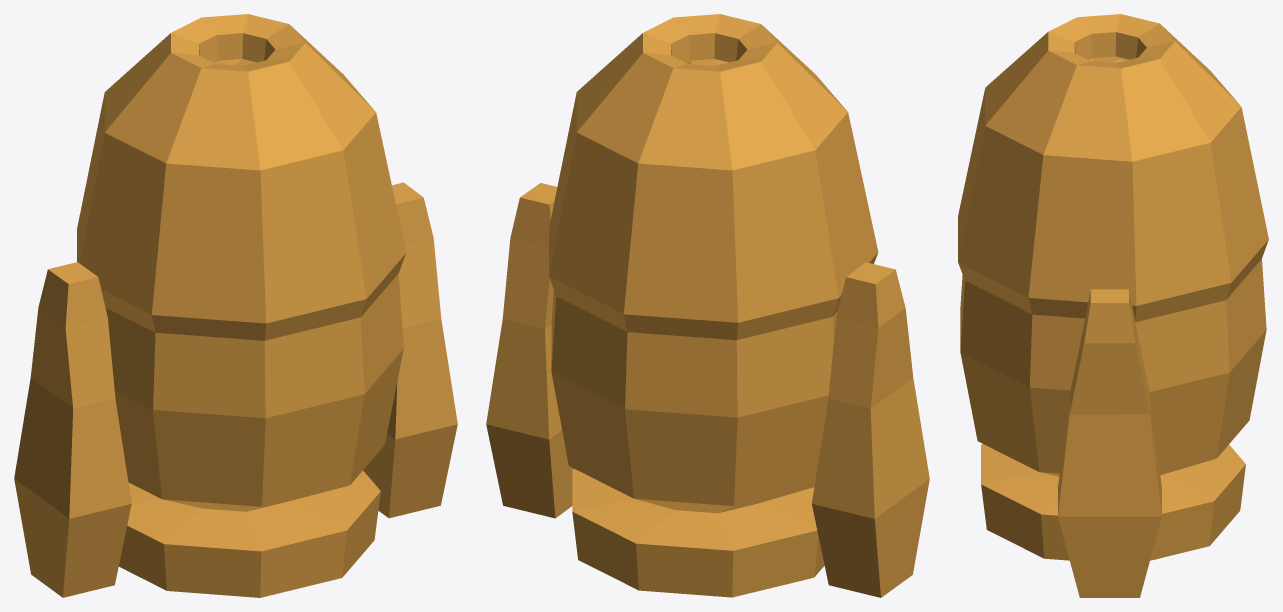
File: scifi-smelter.fbx
The picture shows the model from 3 angles, left to right: view 1: azimuth 30°, elevation 25°; view 2: azimuth 150°, elevation 25°; view 3: azimuth 270°, elevation 25°; orthographic projection. The views are drawn at different scales.
Visible parts, largest first — view 1: scifi-smelter; view 2: scifi-smelter; view 3: scifi-smelter.
Boxes of the visible parts, x1,y1,x2,y2 form: scifi-smelter: (14,14,457,597); scifi-smelter: (486,14,929,597); scifi-smelter: (958,14,1268,597).
Size of the model in its own units: 1.64 by 2 by 1.2.
